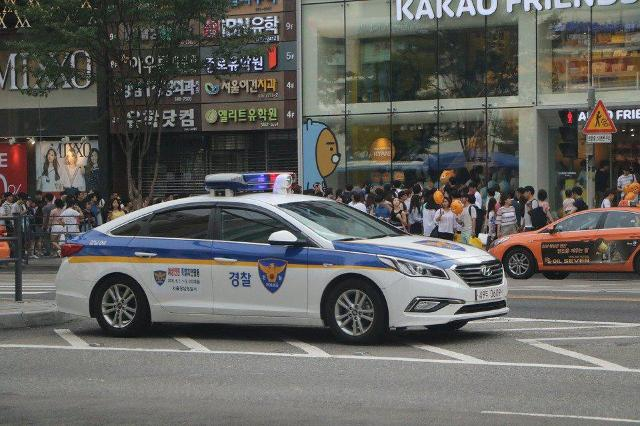police: (0, 260, 454, 426)
